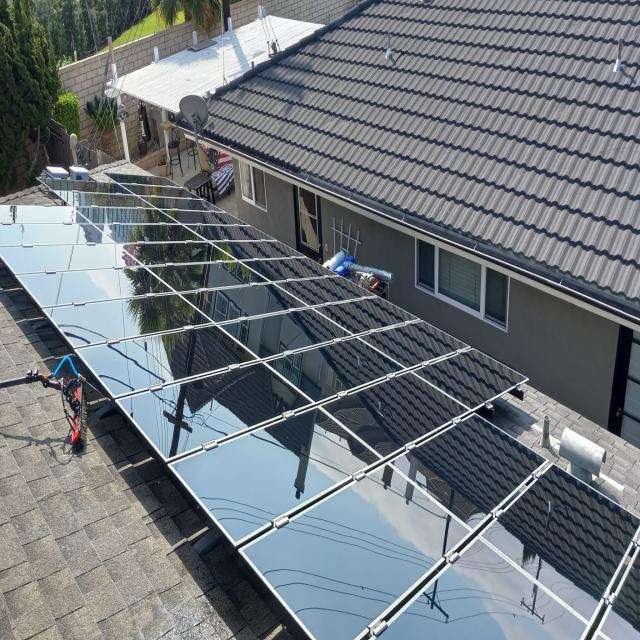clean-solar-panel: (1, 178, 640, 640)
